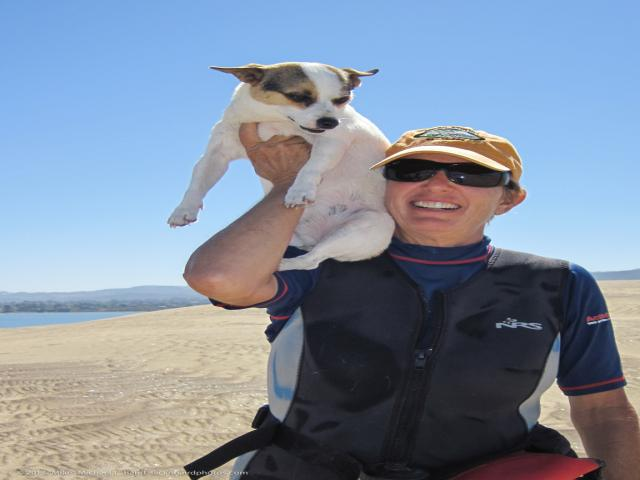Dog: (166, 62, 391, 271)
